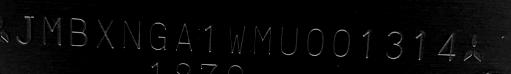letter: (435, 29, 457, 63), (121, 18, 143, 50), (227, 21, 247, 55), (14, 13, 35, 45), (67, 16, 89, 46), (95, 17, 115, 50), (383, 27, 403, 60), (279, 24, 299, 56), (40, 15, 61, 45), (149, 20, 168, 52), (174, 20, 193, 52), (253, 24, 272, 56), (305, 26, 324, 56), (332, 27, 351, 56), (413, 29, 427, 62), (361, 26, 372, 60), (202, 22, 213, 54)
